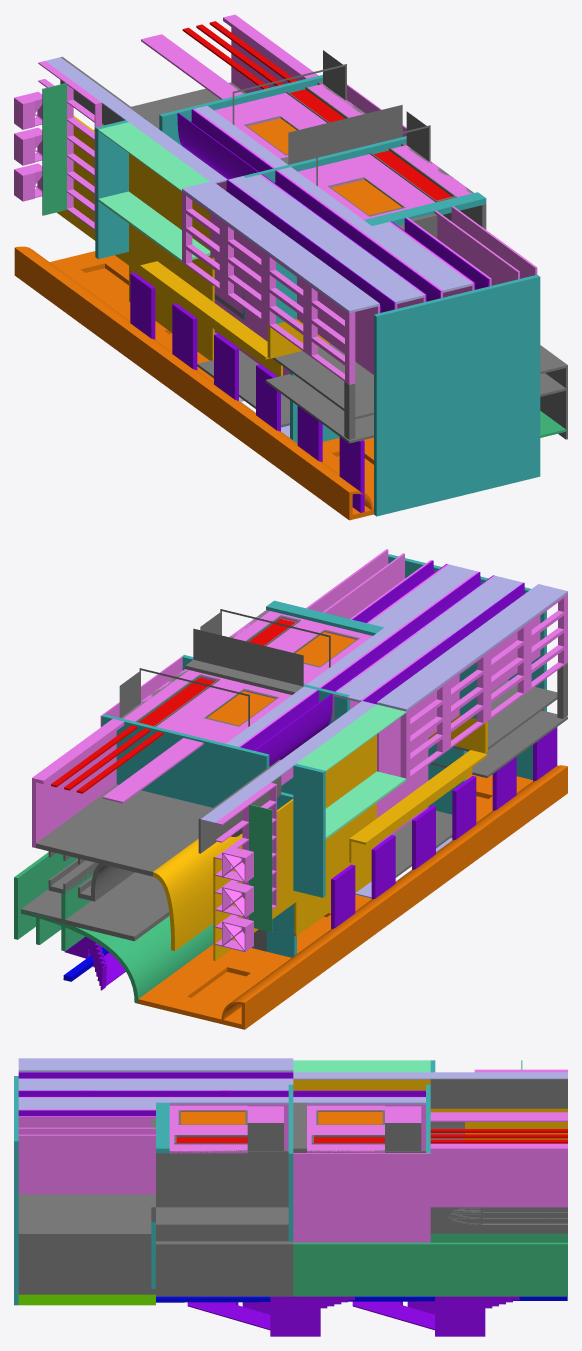
File: TallHotel.fbx
The picture shows the model from 3 angles, top to bottom: view 1: azimuth 30°, elevation 25°; view 2: azimuth 150°, elevation 25°; view 3: azimuth 270°, elevation 25°; orthographic projection. The views are drawn at different scales.
Visible parts, largest first — view 1: 物件_108, 物件_232, 物件_210, 物件_204, 物件_253, 物件_252, 物件_286, 物件_287, 物件_367, 物件_171, 物件_316, 物件_254 (+54 smaller); view 2: 物件_232, 物件_318, 物件_116, 物件_344, 物件_204, 物件_210, 物件_319, 物件_320, 物件_362, 物件_316, 物件_286, 物件_317 (+62 smaller); view 3: 物件_118, 物件_233, 物件_173, 物件_109, 物件_317, 物件_234, 物件_125, 物件_367, 物件_208, 物件_171, 物件_253, 物件_204 (+46 smaller).
Part boxes in pixels (<box>): 物件_108: <box>374,274,540,516</box>; 物件_232: <box>14,246,373,518</box>; 物件_210: <box>129,153,214,360</box>; 物件_204: <box>177,109,440,301</box>; 物件_253: <box>298,145,471,219</box>; 物件_252: <box>288,105,402,164</box>; 物件_286: <box>95,120,128,259</box>; 物件_287: <box>14,246,373,510</box>; 物件_367: <box>272,344,565,419</box>; 物件_171: <box>195,105,455,292</box>; 物件_316: <box>214,84,363,158</box>; 物件_254: <box>42,83,66,215</box>; 物件_232: <box>221,765,567,1029</box>; 物件_318: <box>36,784,204,869</box>; 物件_116: <box>102,714,269,807</box>; 物件_344: <box>134,944,322,1029</box>; 物件_204: <box>240,572,493,766</box>; 物件_210: <box>294,734,376,936</box>; 物件_319: <box>21,872,169,941</box>; 物件_320: <box>153,833,242,950</box>; 物件_362: <box>21,909,213,1003</box>; 物件_316: <box>123,669,291,743</box>; 物件_286: <box>293,763,325,897</box>; 物件_317: <box>32,719,116,847</box>; 物件_118: <box>293,1242,567,1296</box>; 物件_233: <box>293,1153,430,1242</box>; 物件_173: <box>18,1134,155,1194</box>; 物件_109: <box>18,1233,155,1294</box>; 物件_317: <box>430,1147,567,1207</box>; 物件_234: <box>156,1150,425,1207</box>; 物件_125: <box>156,1241,293,1296</box>; 物件_367: <box>18,1194,151,1233</box>; 物件_208: <box>430,1078,567,1108</box>; 物件_171: <box>18,1097,425,1104</box>; 物件_253: <box>169,1105,283,1153</box>; 物件_204: <box>18,1090,425,1096</box>.
Bounding box in the file's own units: 4.87 × 5.06 × 11.87.
